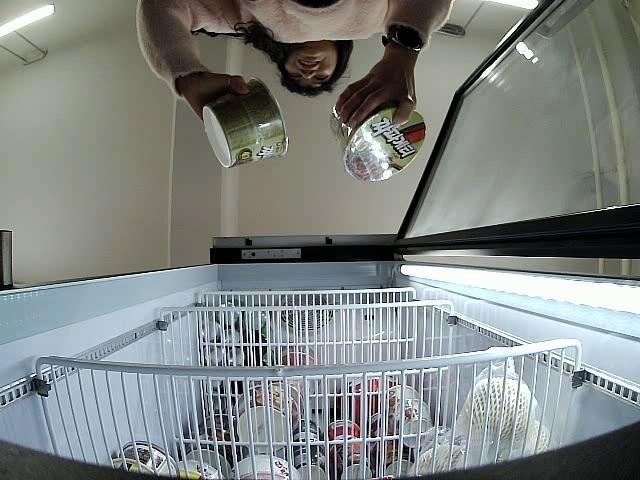03_chapagetti_L: (329, 94, 427, 182), (204, 76, 288, 167)
